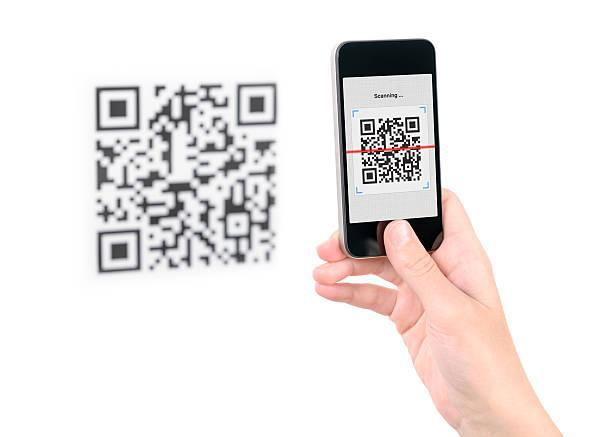Finder pattern: (93, 224, 145, 278), (95, 83, 145, 133), (234, 81, 282, 130), (357, 115, 378, 139), (360, 166, 379, 188), (402, 115, 422, 135)
